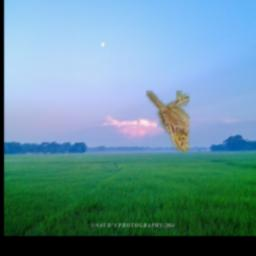Sparrow: (147, 91, 190, 152)
